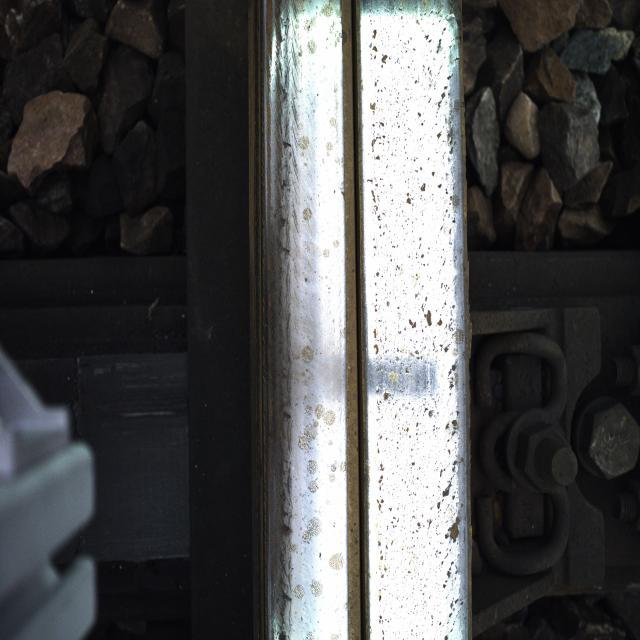scar: (358, 25, 463, 626), (268, 28, 344, 610)
